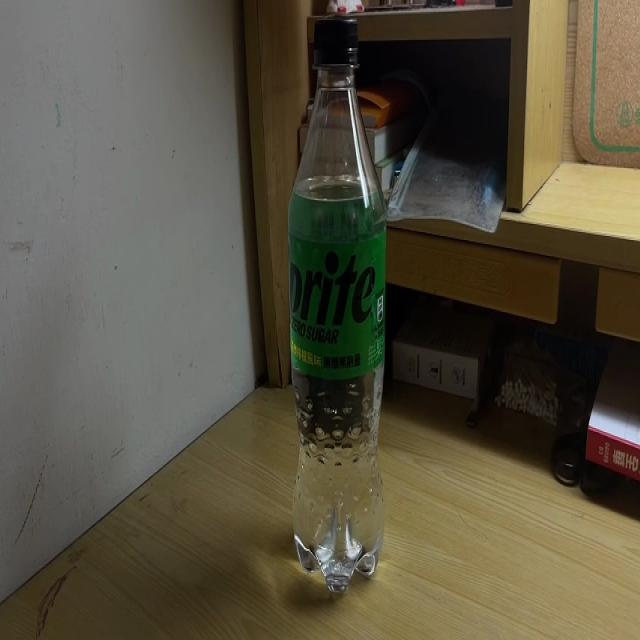Sprite: (288, 17, 387, 594)
